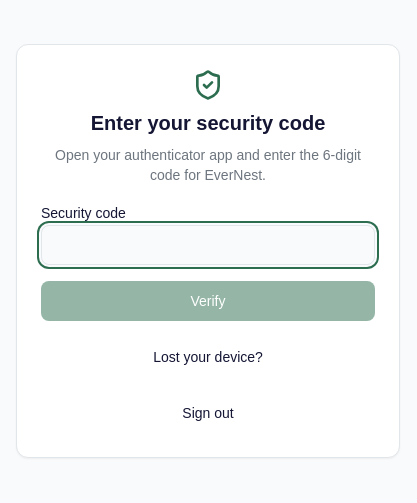
it: MfaChallenge › asks for a fresh sign-in when the server requires one
The width and height of the screenshot is (417, 503).
Step 1. Click the button "Lost your device?" → (208,357), box [41,337,375,377]
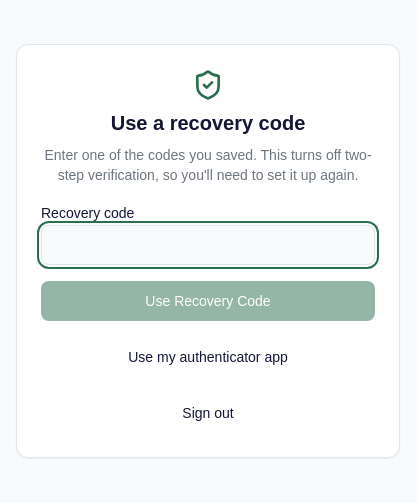
Step 2. Type "ABCD" into the field labelled "Recovery code" → (208,245), box [41,225,375,265]
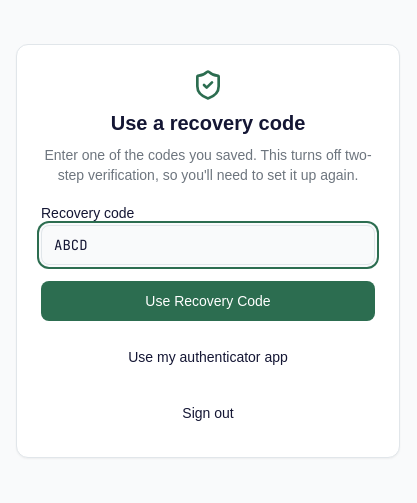
Step 3. Click the button "Use Recovery Code" → (208,301), box [41,281,375,321]
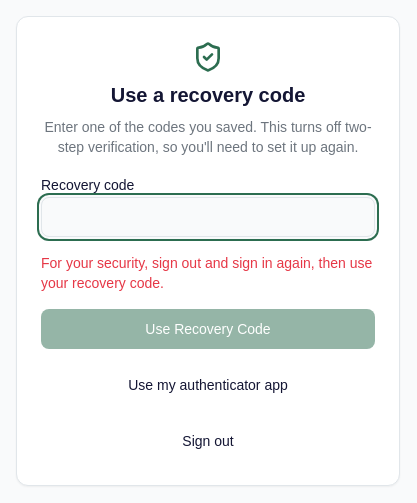
Result: the text "sign out and sign in again" is shown at [41,255,372,291]
